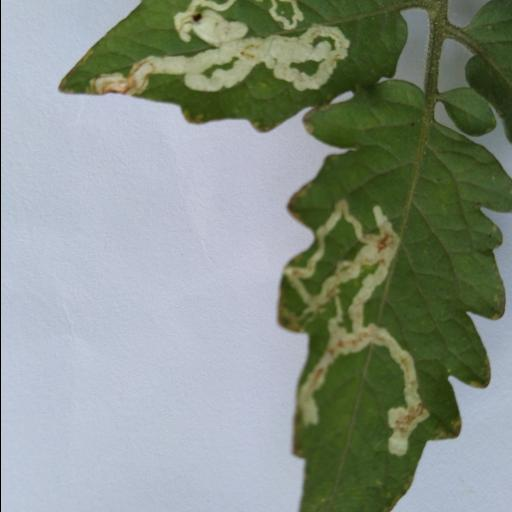Leaf Miner: (276, 97, 512, 512), (56, 0, 408, 133)
